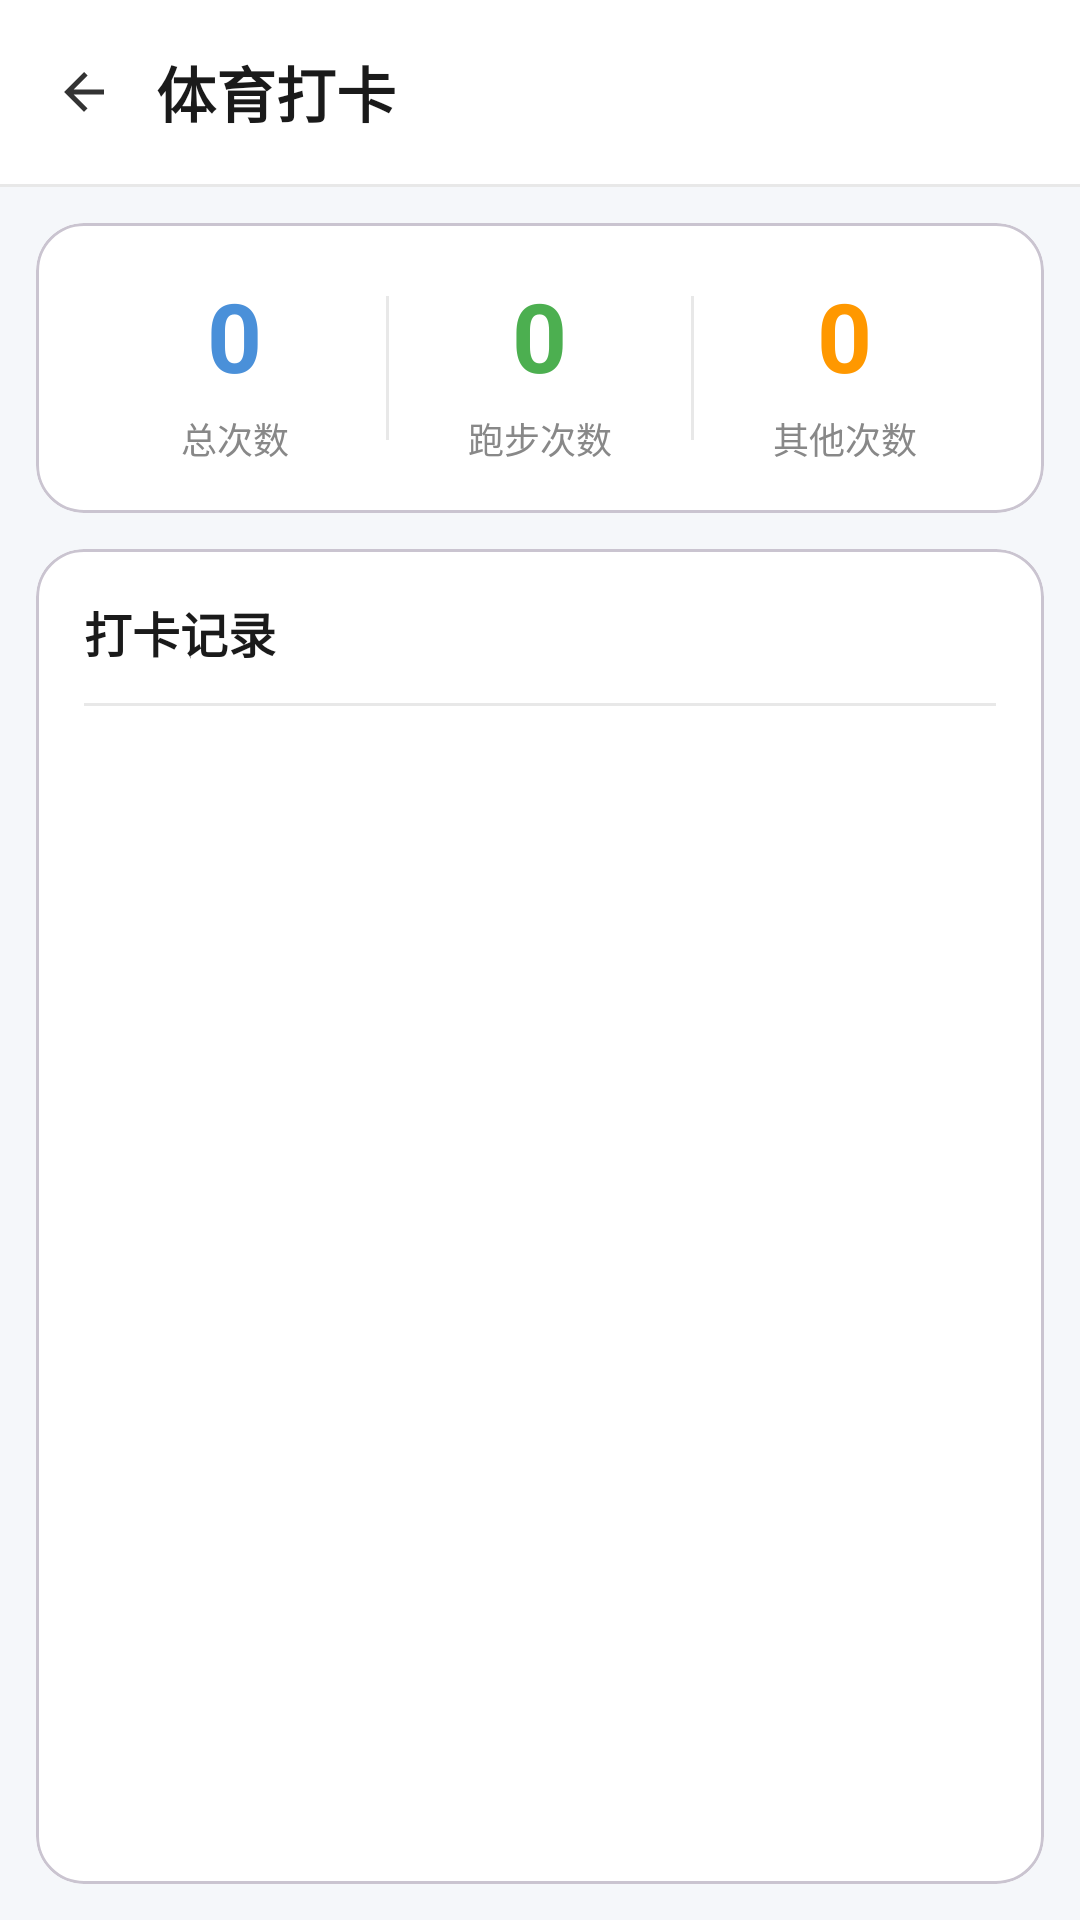

Screen size 1080px x 1920px. Icon name, then its box in pixels as [x1=x1, y1=y1, x2=x2, y2=y2]:
back: [x1=64, y1=72, x2=104, y2=112]
